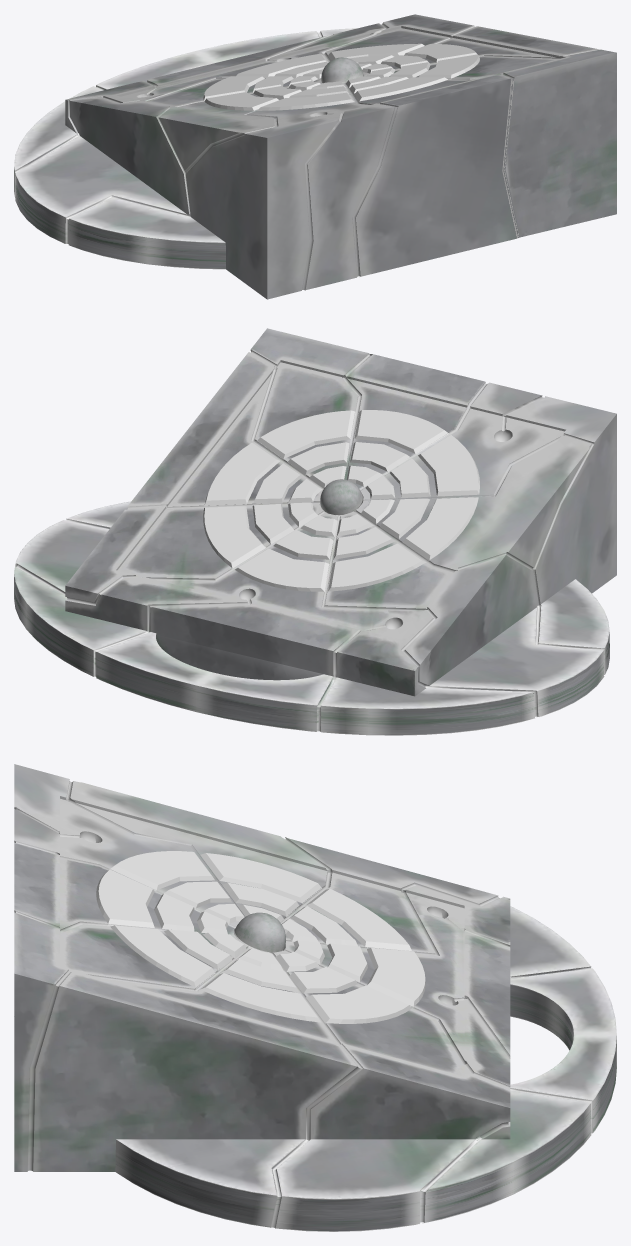
File: Stele.glb
3 renders of one model, top to bottom at view 1: azimuth 30°, elevation 25°; view 2: azimuth 150°, elevation 25°; view 3: azimuth 270°, elevation 25°, orthographic. The views are drawn at different scales.
Visible parts, largest first — view 1: Cube.006, Cylinder.009, Disk_2.005, Disk_1.004, Disk_0.004, Sphere.007; view 2: Cube.006, Cylinder.009, Disk_2.005, Disk_1.004, Disk_0.004, Sphere.007; view 3: Cube.006, Cylinder.009, Disk_2.005, Disk_1.004, Disk_0.004, Sphere.007.
Boxes of the visible parts, <box> form: Cube.006: <box>65,14,616,299</box>; Cylinder.009: <box>14,28,356,269</box>; Disk_2.005: <box>203,43,479,110</box>; Disk_1.004: <box>252,55,430,99</box>; Disk_0.004: <box>288,63,395,90</box>; Sphere.007: <box>321,57,363,83</box>; Cube.006: <box>65,328,616,696</box>; Cylinder.009: <box>14,501,609,735</box>; Disk_2.005: <box>203,410,479,591</box>; Disk_1.004: <box>252,442,430,559</box>; Disk_0.004: <box>288,465,395,536</box>; Sphere.007: <box>320,479,362,515</box>; Cube.006: <box>14,764,510,1171</box>; Cylinder.009: <box>115,906,616,1231</box>; Disk_2.005: <box>96,851,425,1023</box>; Disk_1.004: <box>154,881,367,993</box>; Disk_0.004: <box>197,904,324,972</box>; Sphere.007: <box>235,912,285,952</box>.
Size of the model in its own units: 1.94 by 0.5486 by 1.5.
Materials: 3 (3 with a texture image).
